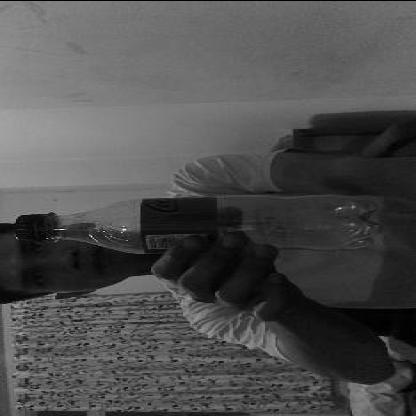plastic_bottles: (8, 189, 382, 251)
